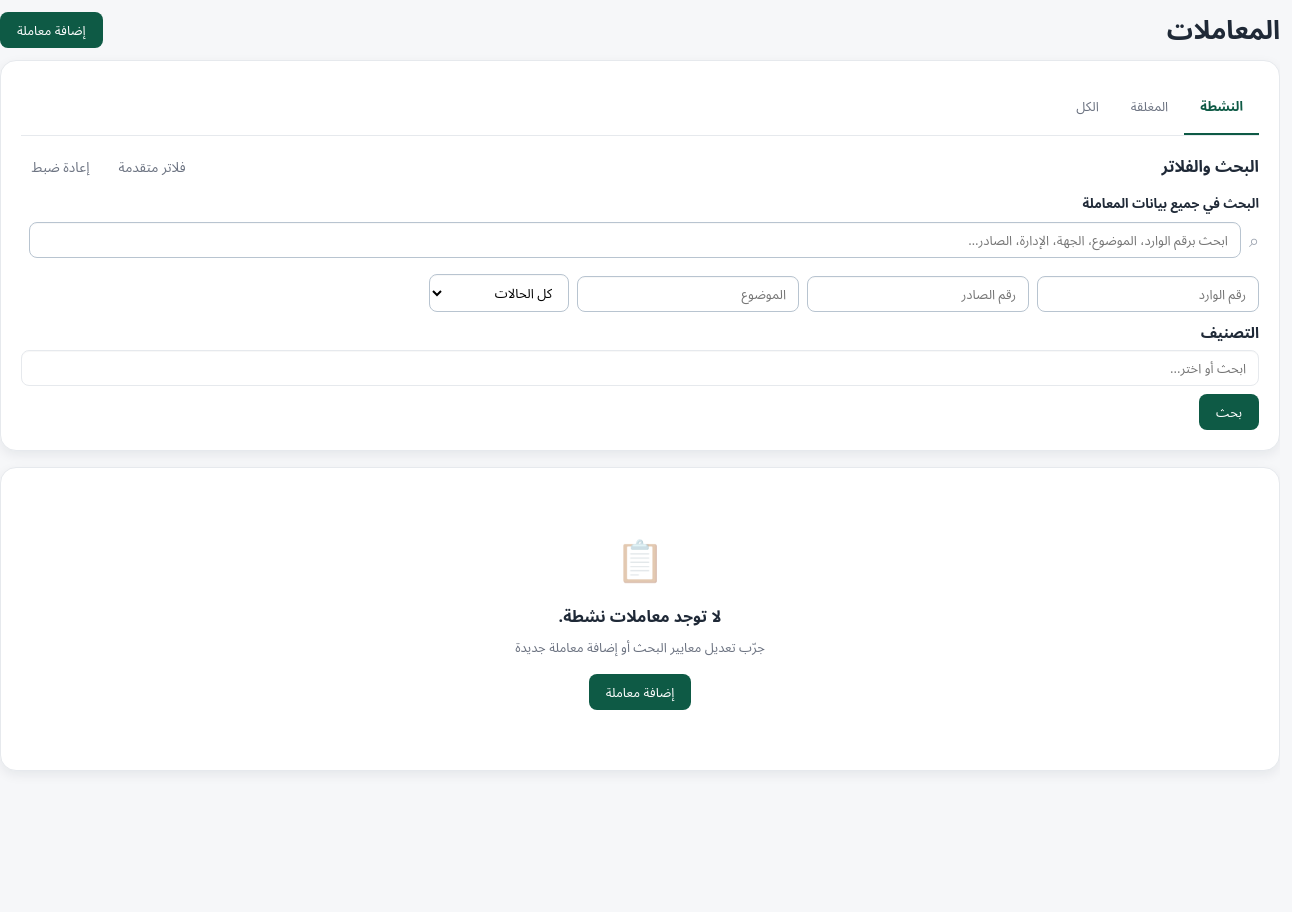
it: TransactionsList › sends closed statusScope and clears status filter when the closed tab is selected
This screenshot has width=1292, height=912.
Expected: the text "لا توجد معاملات نشطة." is shown, top-left (559, 605), bottom-right (721, 627)
Select "جديدة" in the dropdown named "الحالة": (499, 293) top-left (429, 274), bottom-right (569, 312)
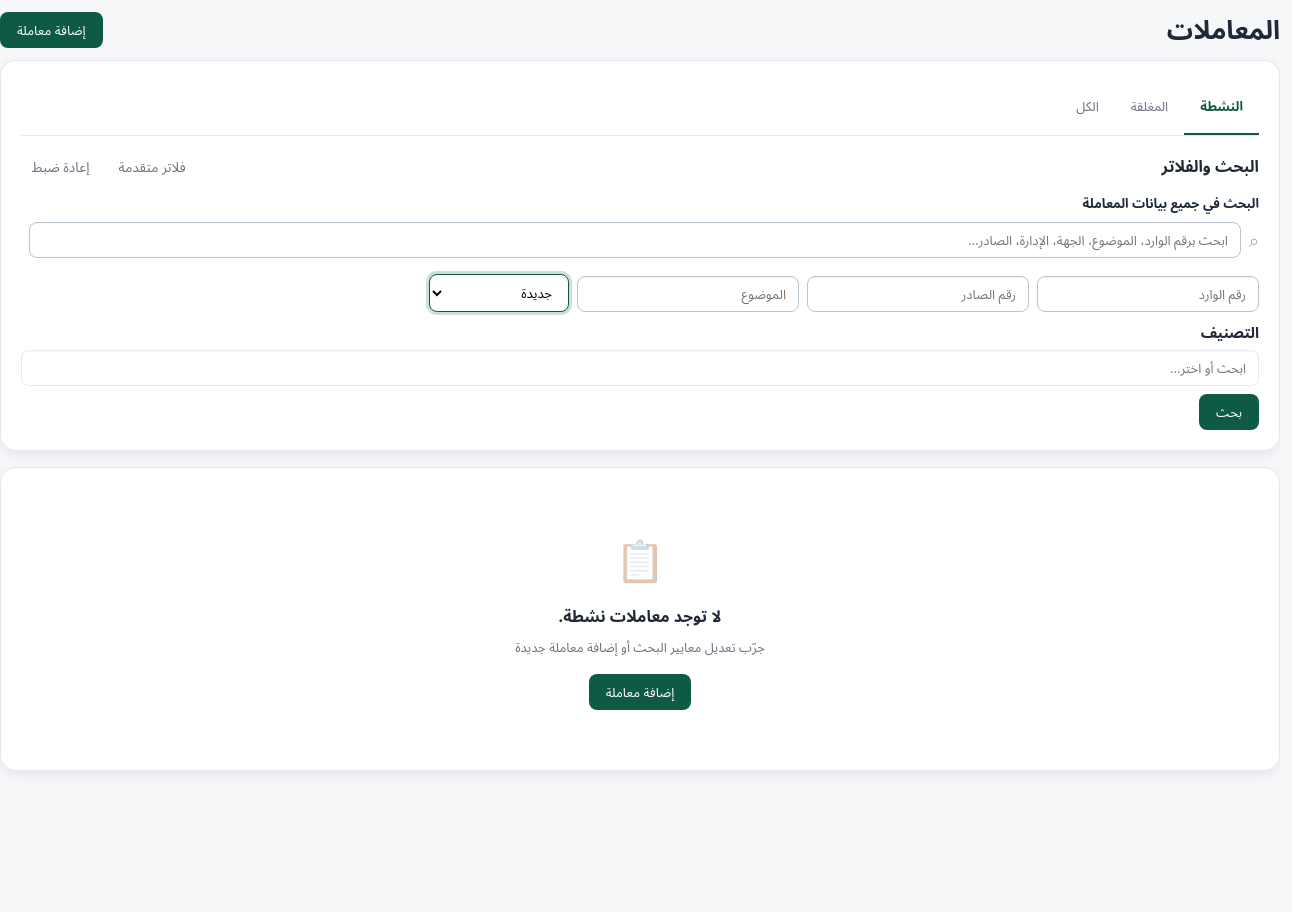
Click the tab "المغلقة": (1150, 108) top-left (1115, 81), bottom-right (1184, 135)
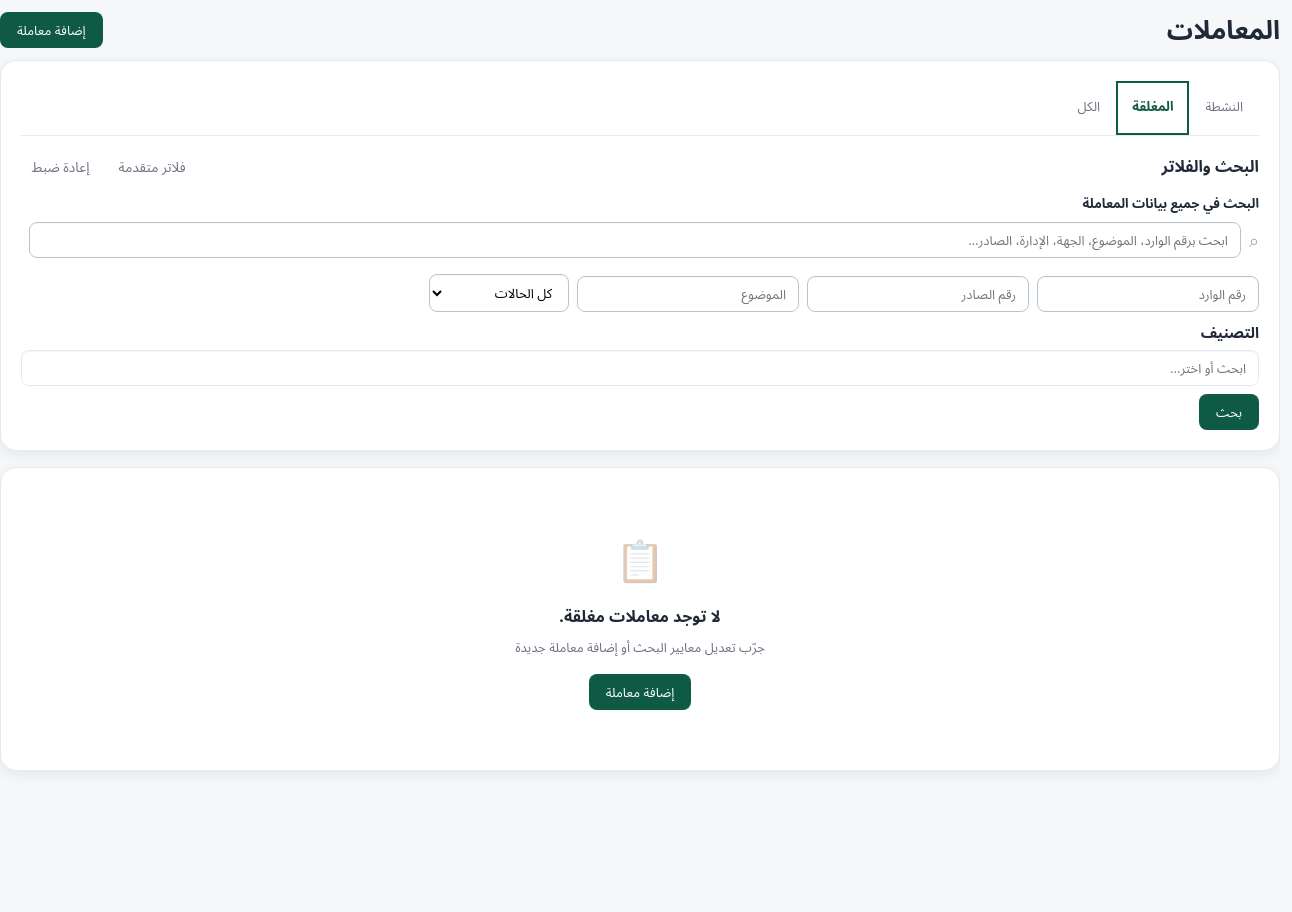
Expected: the text "لا توجد معاملات مغلقة." is shown, top-left (559, 605), bottom-right (721, 627)
